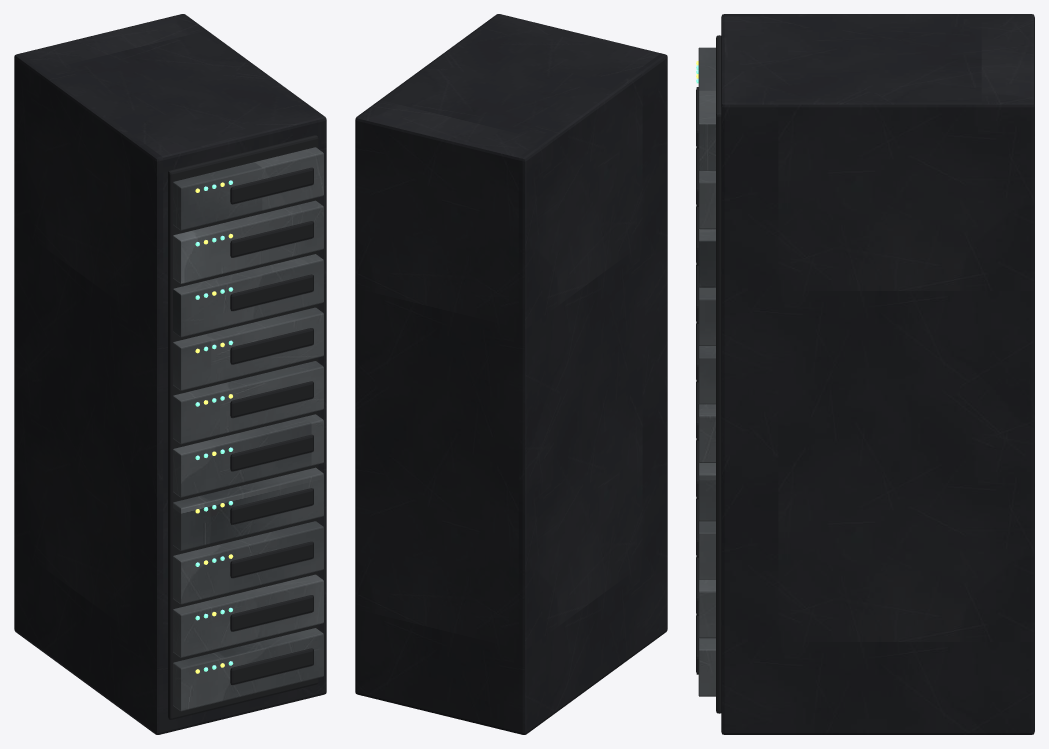
File: server_rack.glb
3 renders of one model, left to right at view 1: azimuth 30°, elevation 25°; view 2: azimuth 150°, elevation 25°; view 3: azimuth 270°, elevation 25°, orthographic. The views are drawn at different scales.
Parts seen in each view (by area): view 1: body; view 2: body; view 3: body.
Boxes of the visible parts, x1,y1,x2,y2 form: body: (14,14,326,734); body: (355,14,667,734); body: (696,14,1034,734).
Bounding box in the file's own units: 0.62 × 2 × 0.972.
Materials: 5 (2 with a texture image).
